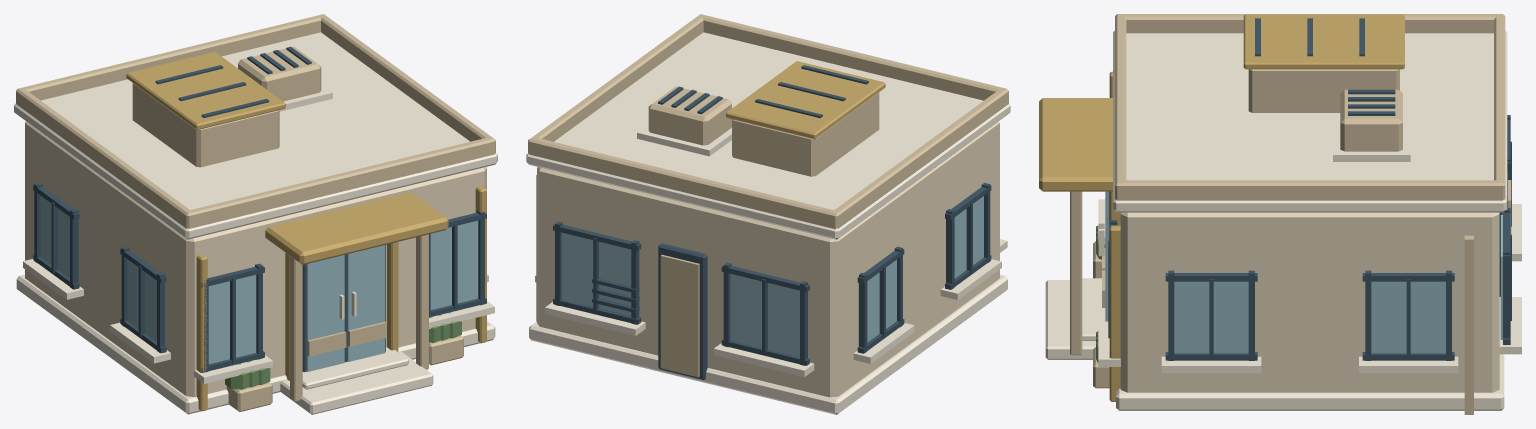
Rendered from office-l01.glb.
3 renders of one model, left to right at view 1: azimuth 30°, elevation 25°; view 2: azimuth 150°, elevation 25°; view 3: azimuth 270°, elevation 25°, orthographic. The views are drawn at different scales.
Visible parts, largest first — view 1: office_L01; view 2: office_L01; view 3: office_L01.
Part boxes in pixels (x1=…): office_L01: x1=14, y1=14, x2=497, y2=414; office_L01: x1=526, y1=14, x2=1010, y2=414; office_L01: x1=1039, y1=14, x2=1521, y2=414.
Bounding box in the file's own units: 4.62 × 3.1 × 5.09.
